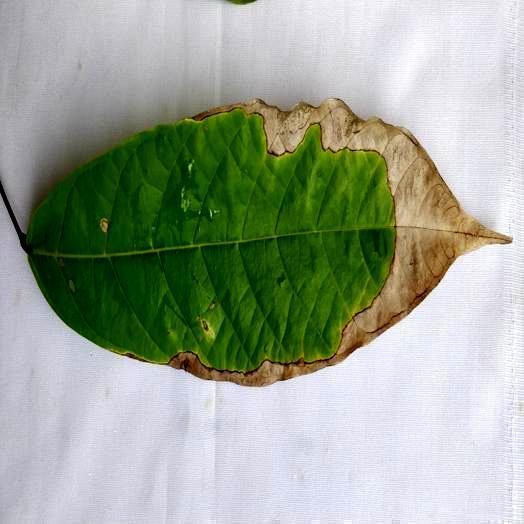Potassium: (27, 100, 510, 385)
